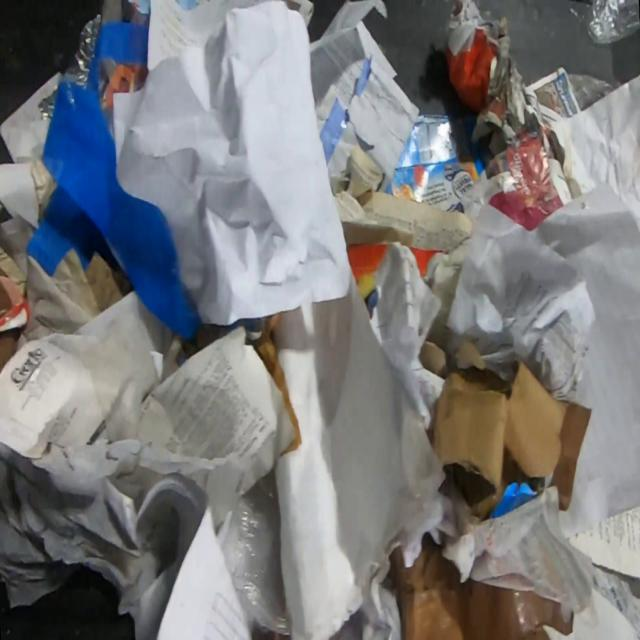cardboard: (0, 314, 298, 542), (419, 339, 595, 517), (391, 530, 575, 640), (379, 113, 494, 211), (346, 243, 392, 321), (405, 243, 453, 280)
soft_plastic: (0, 457, 182, 621), (215, 469, 292, 635), (585, 0, 640, 47), (74, 15, 101, 88), (37, 86, 58, 122)
